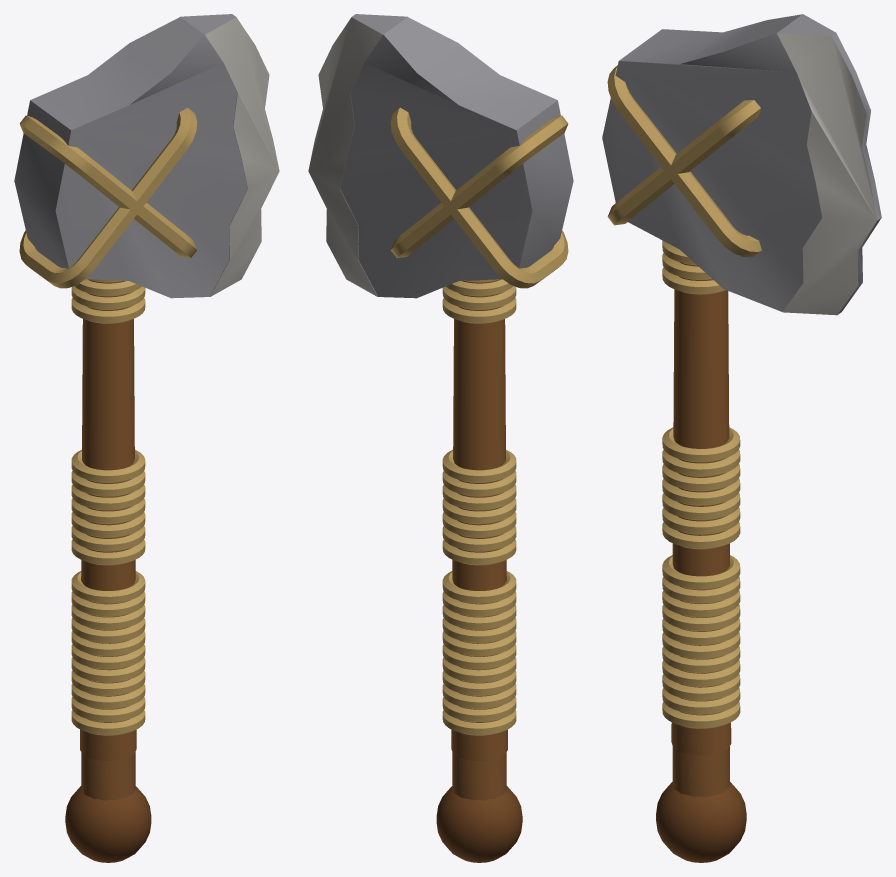
3 views of the same model, side by side, from view 1: azimuth 30°, elevation 25°; view 2: azimuth 150°, elevation 25°; view 3: azimuth 330°, elevation 25° (orthographic). The views are drawn at different scales.
Visible parts, largest first — view 1: body; view 2: body; view 3: body.
Part boxes in pixels (box(x1,y1,x2,y2)): body: box(14, 14, 279, 862); body: box(308, 14, 573, 862); body: box(602, 14, 881, 862).
Bounding box in the file's own units: 0.2311 × 0.74 × 0.0947.
1 material, 1 textured.
